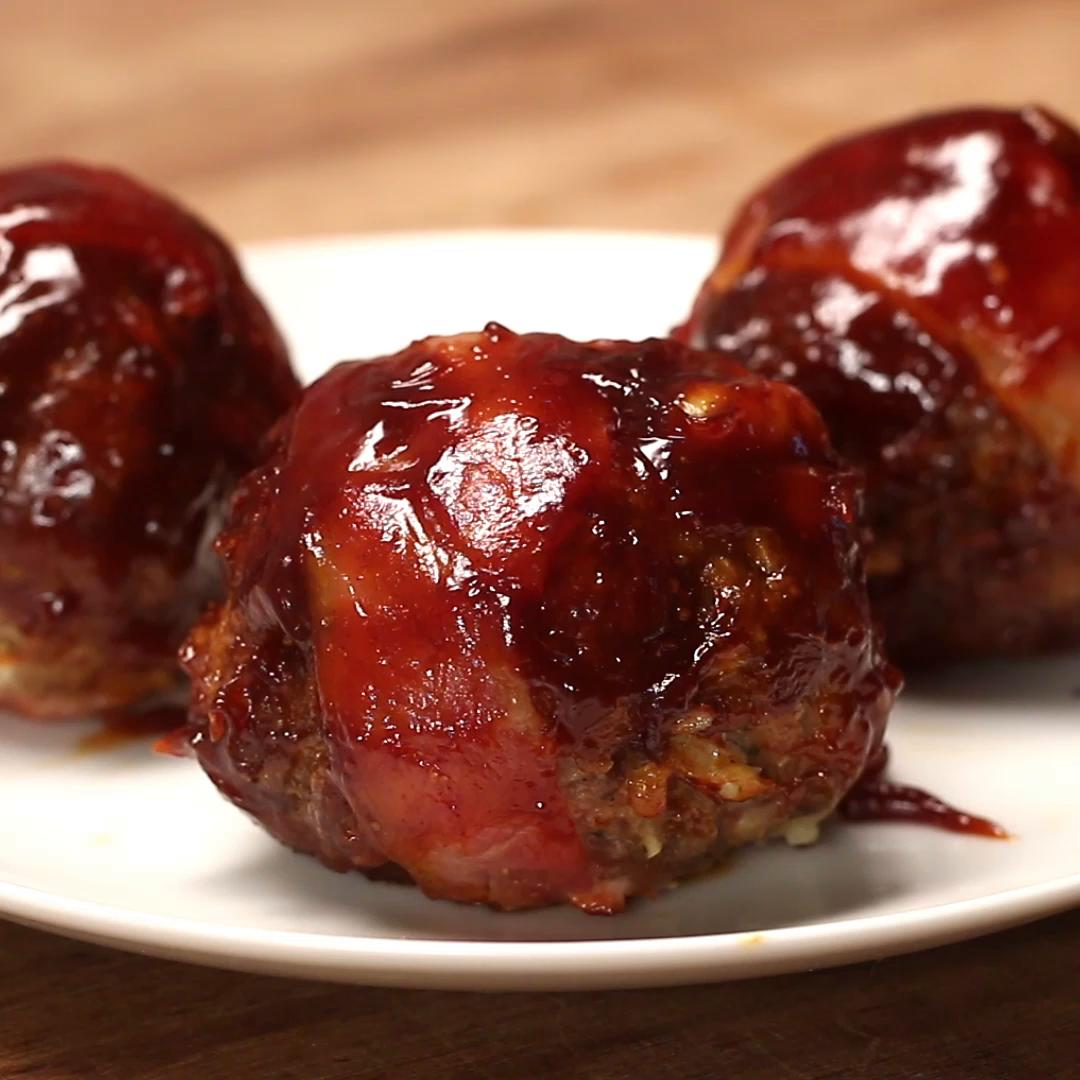meatballs: (227, 339, 871, 903), (721, 117, 1080, 629), (1, 179, 289, 691)
